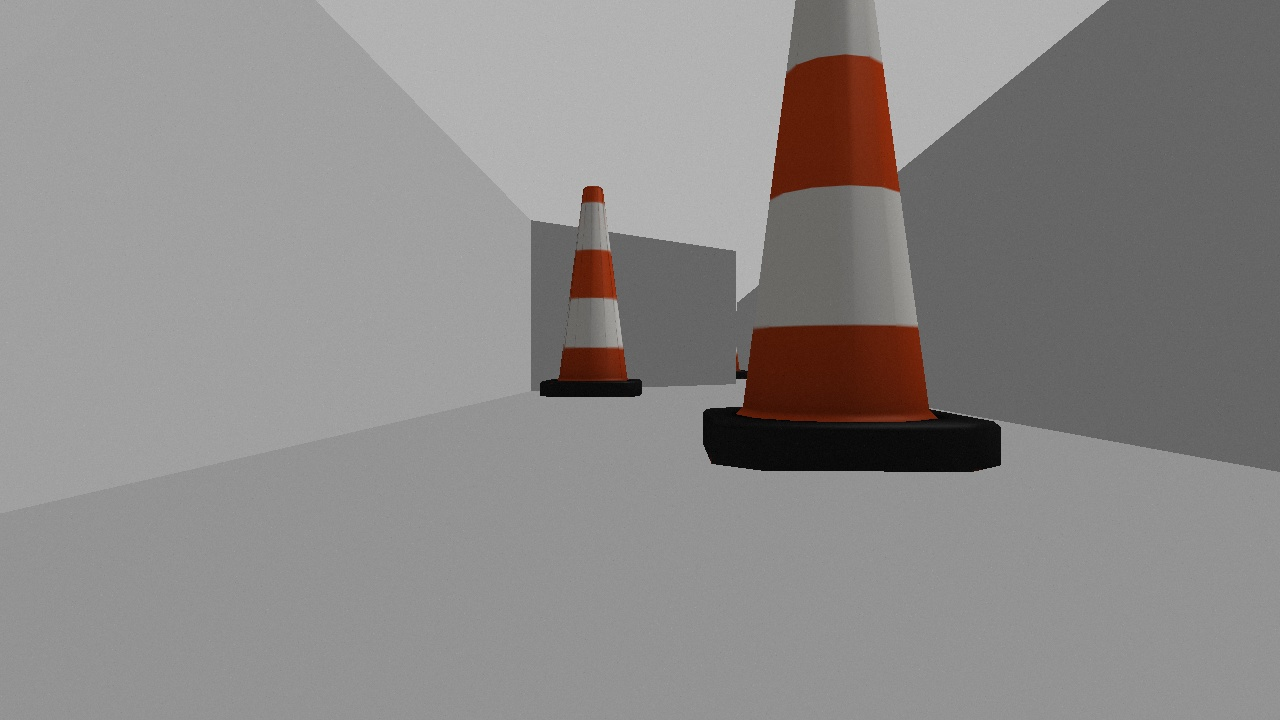barricade: (690, 1, 1022, 486), (527, 168, 653, 405)
